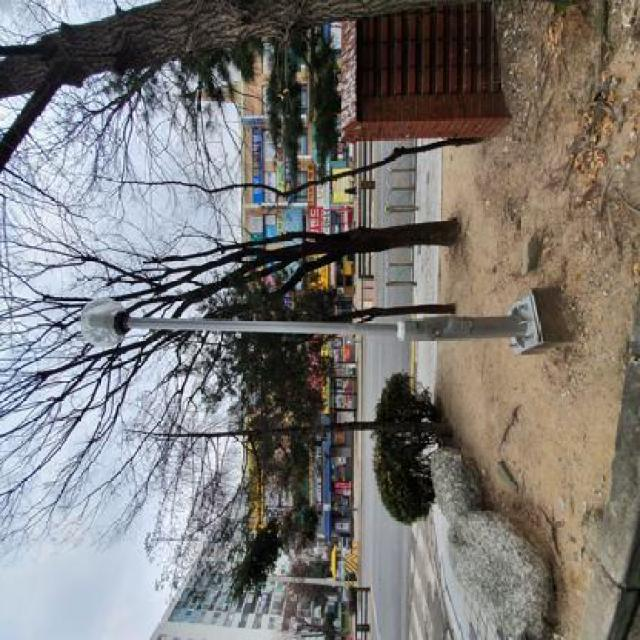pole: (74, 278, 577, 364)
